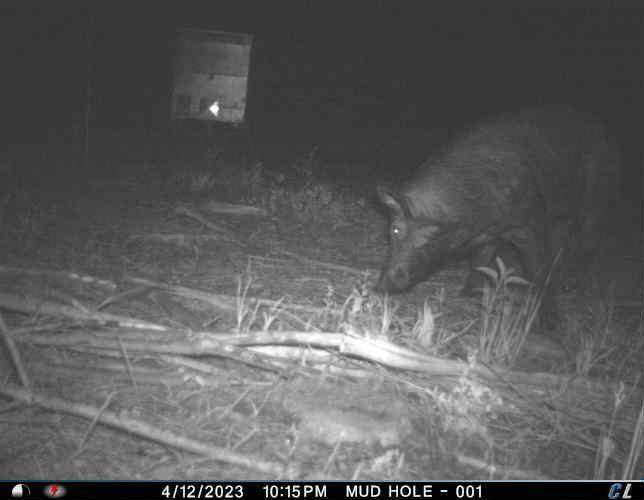Hog: (370, 98, 626, 335)
